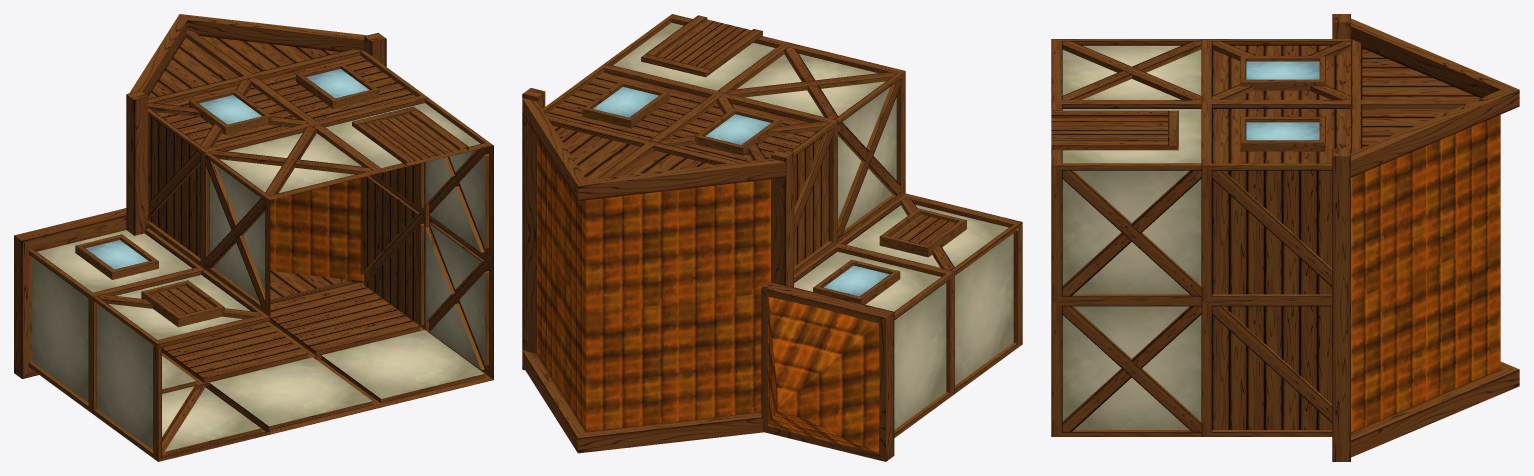
The model's file is Medieval_House_04 1.fbx.
The picture shows the model from 3 angles, left to right: view 1: azimuth 30°, elevation 25°; view 2: azimuth 150°, elevation 25°; view 3: azimuth 270°, elevation 25°; orthographic projection. The views are drawn at different scales.
Parts seen in each view (by area): view 1: Medieval_House_04; view 2: Medieval_House_04; view 3: Medieval_House_04.
Part boxes in pixels (x1,y1,x2,y2): Medieval_House_04: (14, 14, 493, 461); Medieval_House_04: (522, 14, 1022, 461); Medieval_House_04: (1051, 14, 1519, 461).
Bounding box in the file's own units: 809 × 573 × 796.
